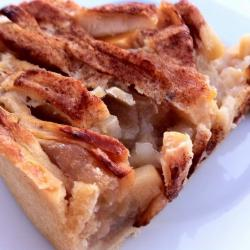apple_pie: (2, 5, 248, 239)
